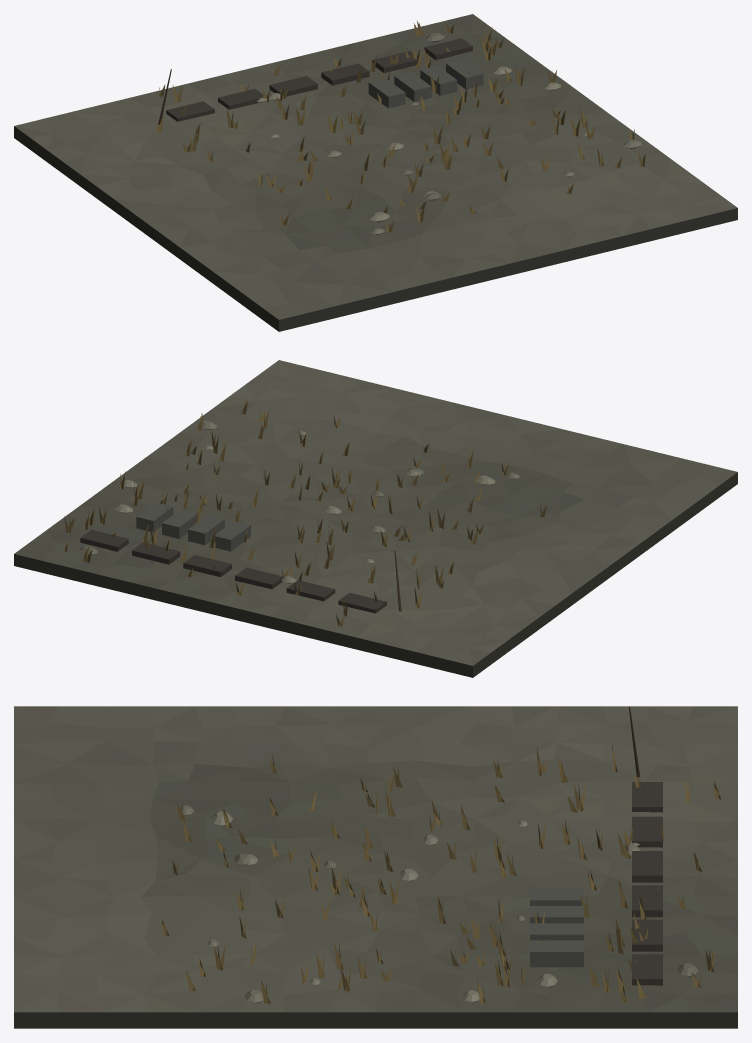
File: CHUNK_oath_battlefield__broken_standards__10.glb
The picture shows the model from 3 angles, top to bottom: view 1: azimuth 30°, elevation 25°; view 2: azimuth 150°, elevation 25°; view 3: azimuth 270°, elevation 25°; orthographic projection. The views are drawn at different scales.
Parts seen in each view (by area): view 1: CHUNK_oath_battlefield__broken_standards__10; view 2: CHUNK_oath_battlefield__broken_standards__10; view 3: CHUNK_oath_battlefield__broken_standards__10.
Boxes of the visible parts, box(x1,y1,x2,y2) form: CHUNK_oath_battlefield__broken_standards__10: box(14, 14, 737, 331); CHUNK_oath_battlefield__broken_standards__10: box(14, 360, 737, 677); CHUNK_oath_battlefield__broken_standards__10: box(14, 706, 737, 1028).
Bounding box in the file's own units: 8 × 1.15 × 8.
